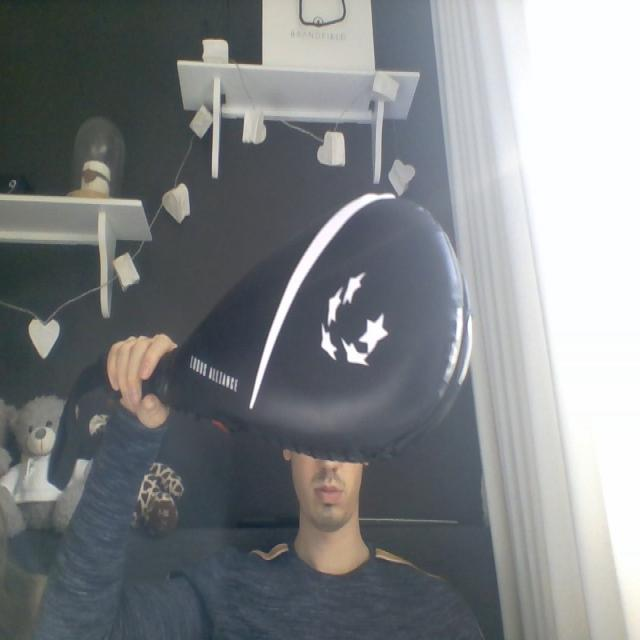paddle: (162, 189, 476, 467)
